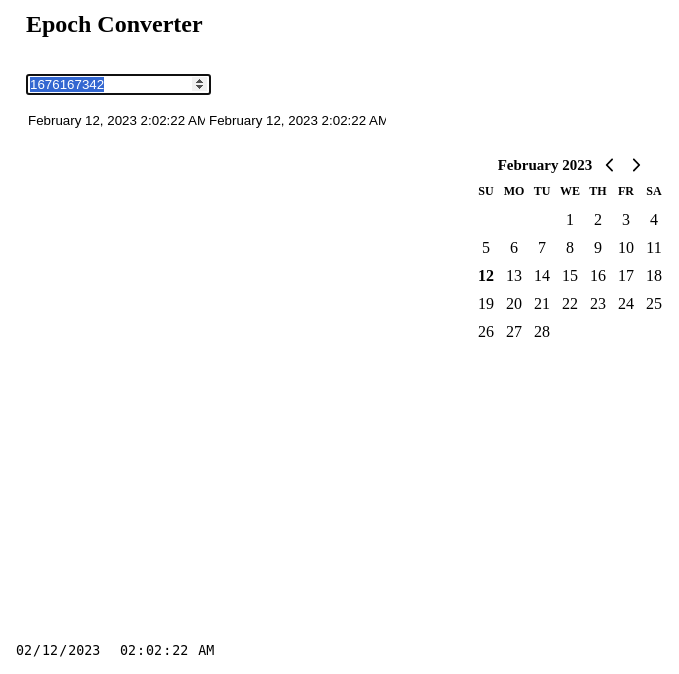
Test: Dashboard › renders the correct date string when the date changes
Replace the text in the number field with test id "epochInput" with "1675639572": (118, 84) [26,74,211,95]
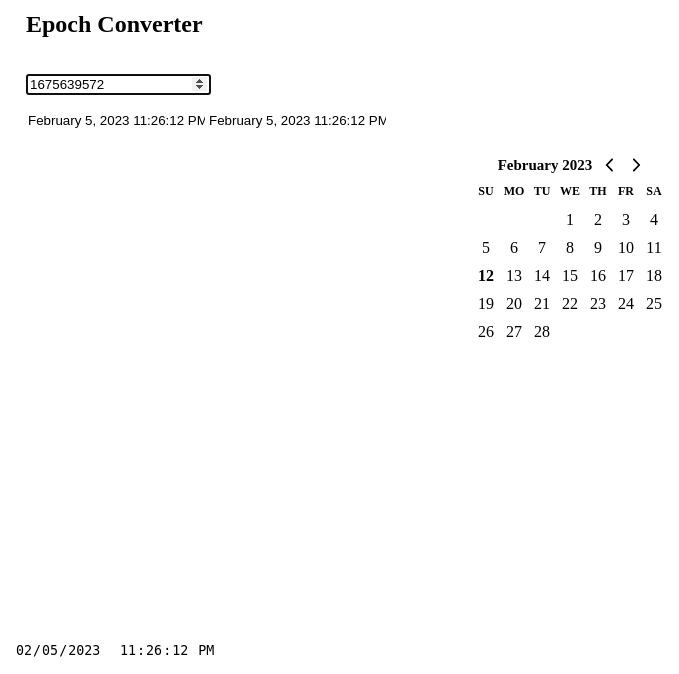
Now the field with test id "utcString" holds "February 5, 2023 11:26:12 PM UTC", box [207,112,388,129]
